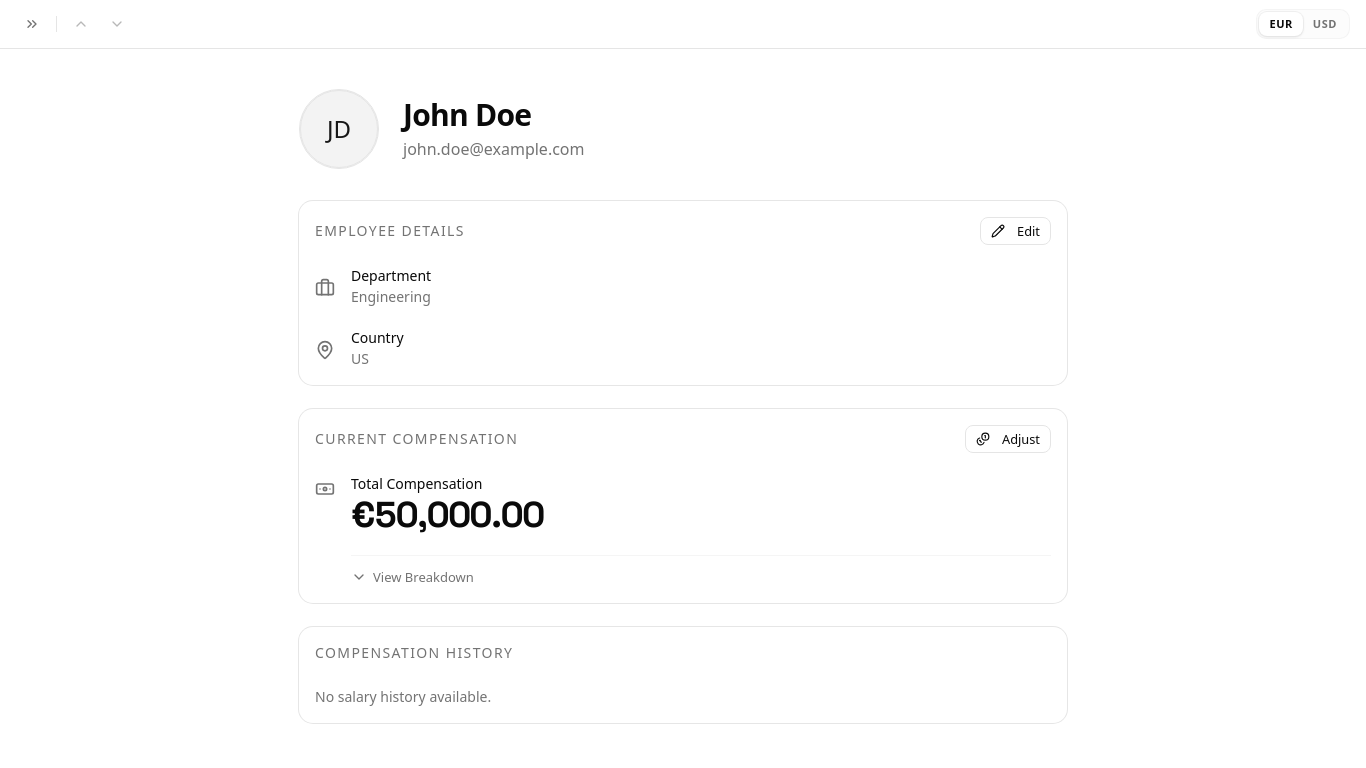
EmployeeProfilePane › USD Toggle › toggles salary values to USD
The width and height of the screenshot is (1366, 768).
Expected: the text "€50,000.00" is shown, left=351, top=495, right=544, bottom=535
Click the button "USD" at {"x": 1325, "y": 24}, box left=1303, top=12, right=1347, bottom=36
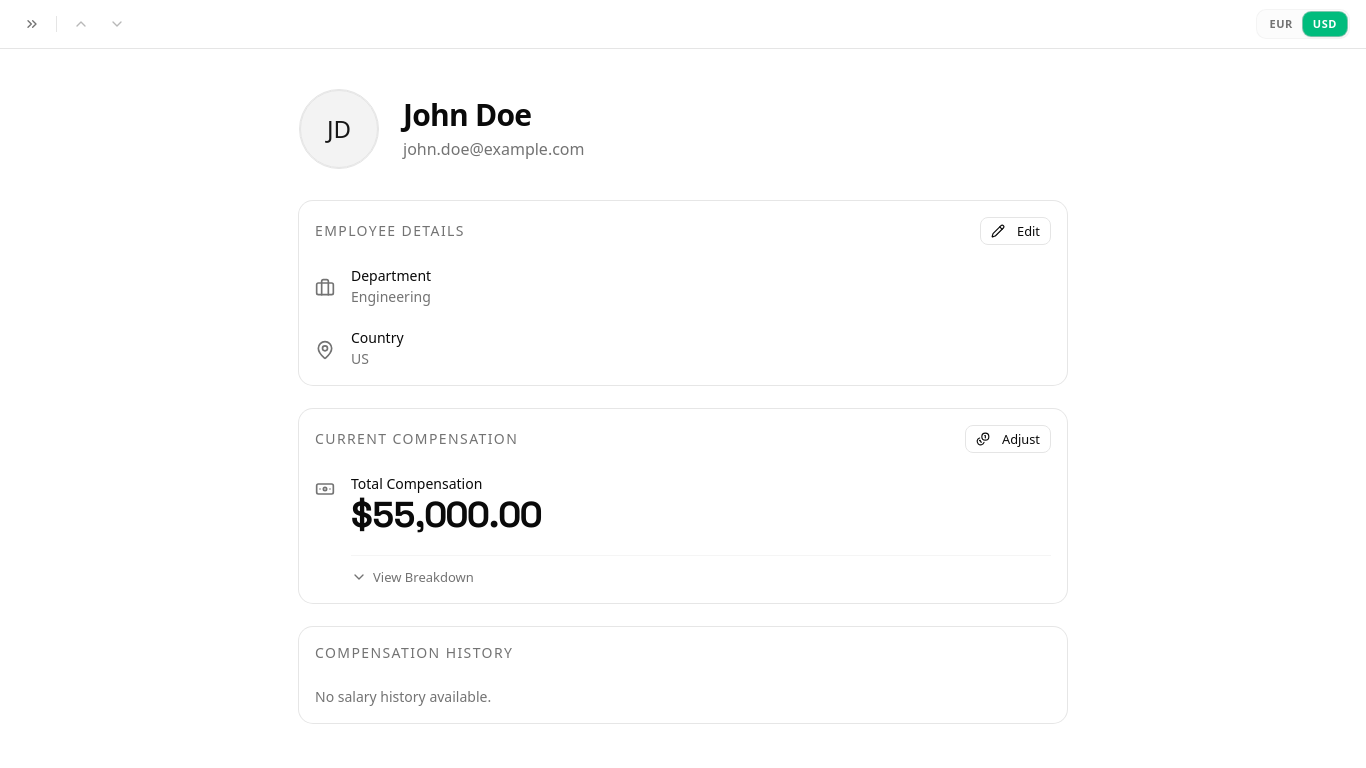
Result: the text "$55,000.00" is shown at left=351, top=495, right=541, bottom=535
